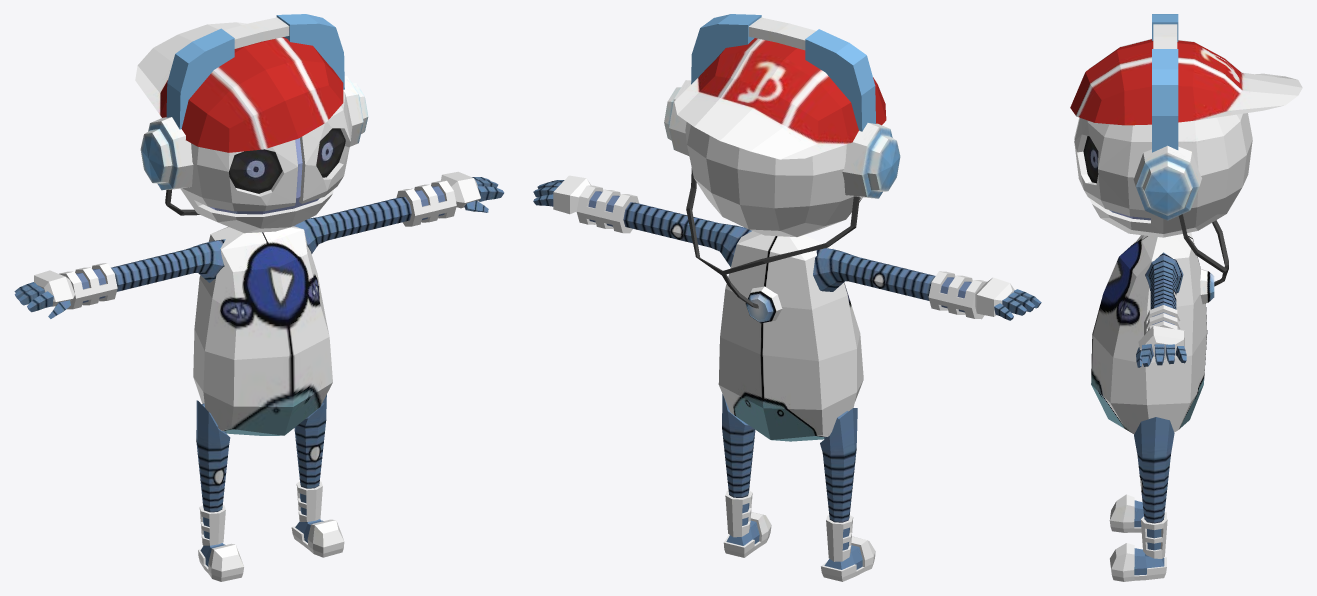
The model's file is Robot_ForVRWorkshop.fbx.
The picture shows the model from 3 angles, left to right: view 1: azimuth 30°, elevation 25°; view 2: azimuth 150°, elevation 25°; view 3: azimuth 270°, elevation 25°; orthographic projection. The views are drawn at different scales.
Parts seen in each view (by area): view 1: Head, Body, Arm.R, Arm.L, Leg,R, Leg.L; view 2: Head, Body, Arm.R, Arm.L, Leg,R, Leg.L; view 3: Head, Body, Leg.L, Arm.L, Leg,R.
Part boxes in pixels (x1,y1,x2,y2): Head: (135, 14, 368, 233); Body: (193, 226, 332, 435); Arm.R: (14, 239, 225, 318); Arm.L: (293, 171, 504, 253); Leg,R: (196, 400, 243, 581); Leg.L: (291, 394, 344, 557); Head: (664, 14, 900, 308); Body: (718, 231, 863, 441); Arm.R: (813, 248, 1041, 320); Arm.L: (533, 175, 751, 266); Leg,R: (820, 408, 875, 581); Leg.L: (722, 394, 771, 557); Head: (1070, 14, 1302, 286); Body: (1091, 232, 1214, 434); Leg.L: (1110, 417, 1174, 581); Arm.L: (1136, 252, 1186, 367); Leg,R: (1109, 494, 1166, 532).
Size of the model in its own units: 469 by 489 by 200.
Materials: 3 (3 with a texture image).
